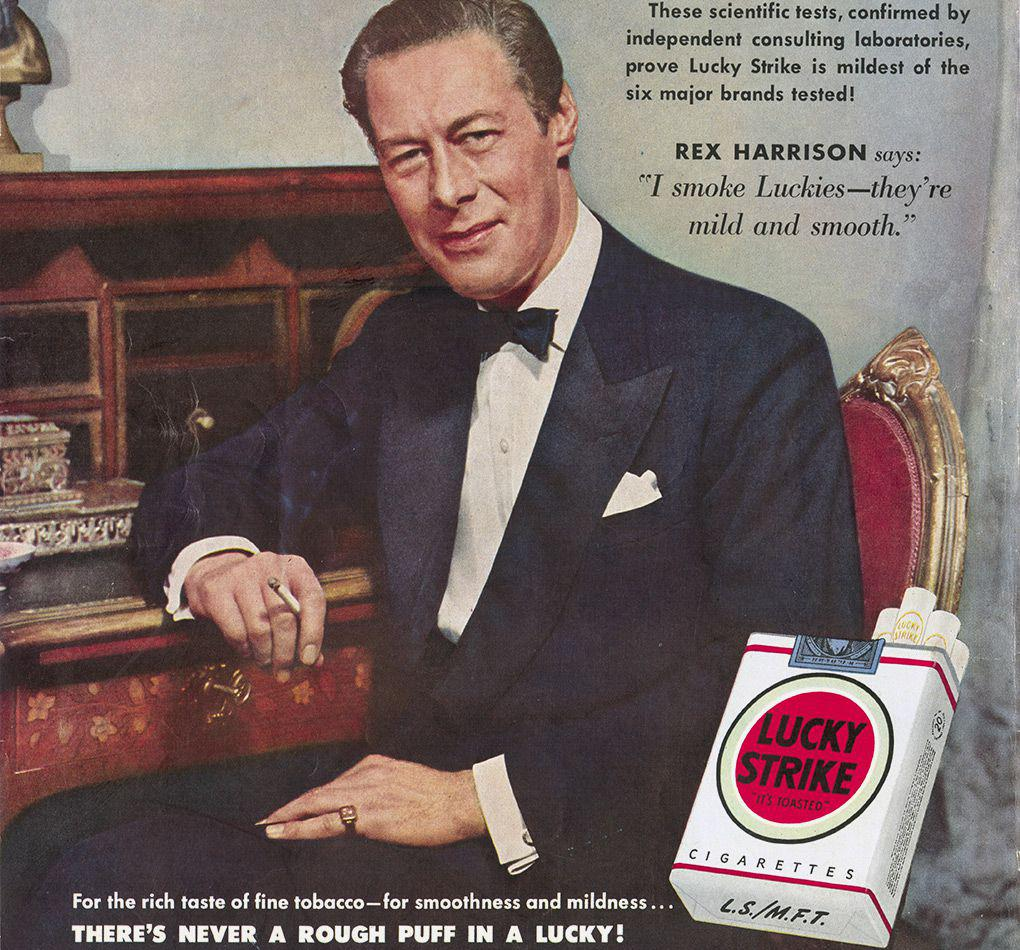lucky_strike_red: (710, 653, 889, 887)
